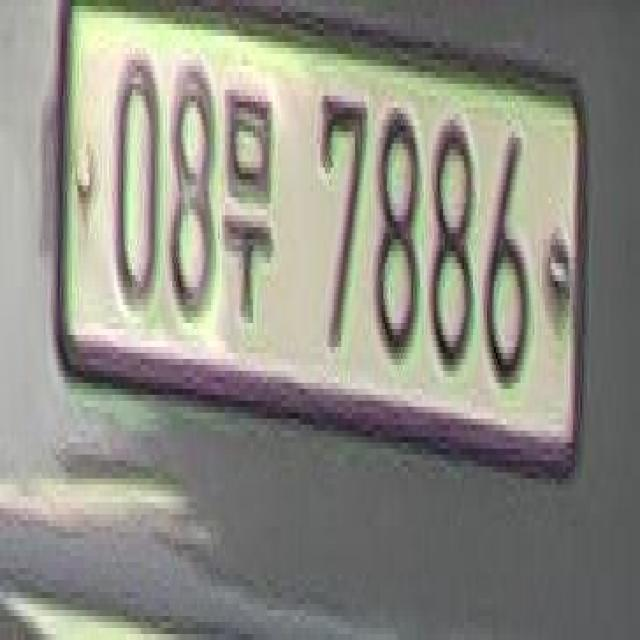illegal_plate: (66, 10, 590, 492)
